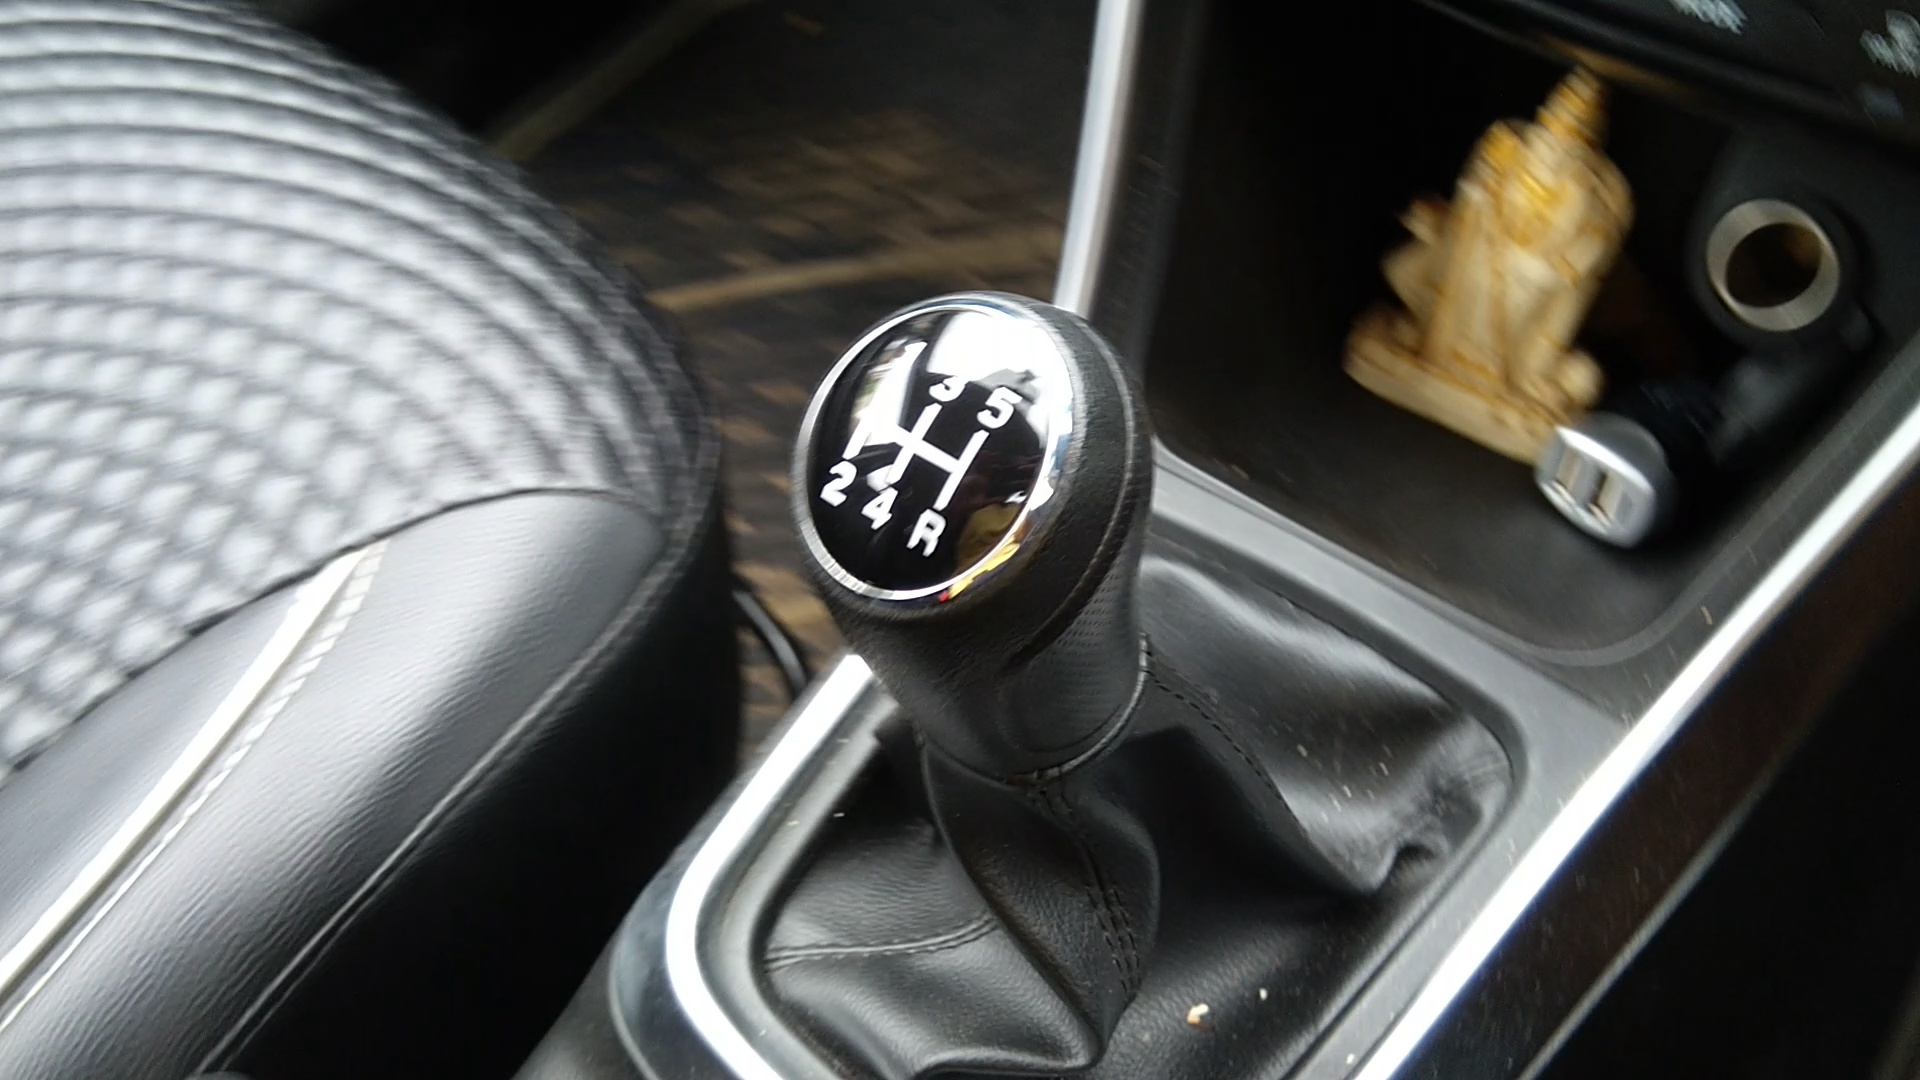manual_gear: (791, 282, 1166, 804)
